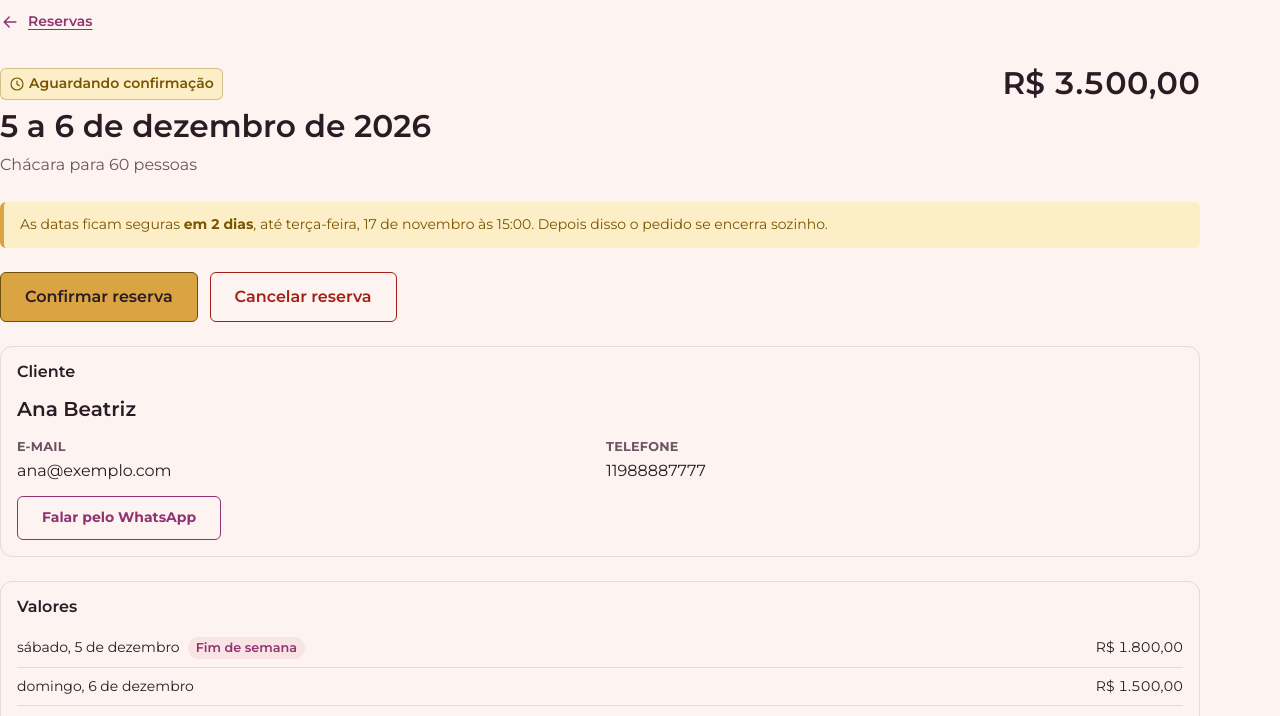
Test: BookingDetailPage, painel › avisa a mudança e mostra o novo estado
Click the button "Confirmar reserva" at (99, 297), box [0,272,198,322]
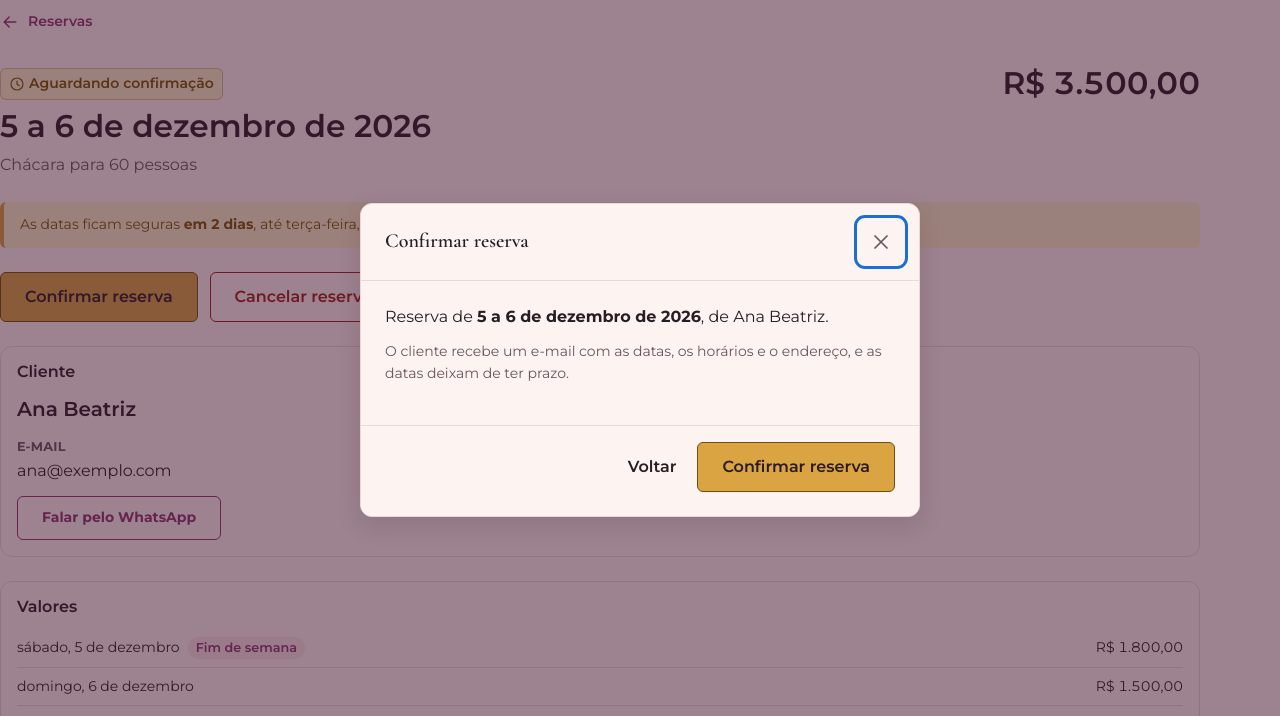
Click the button "Confirmar reserva" at (796, 467), box [697,442,895,492]
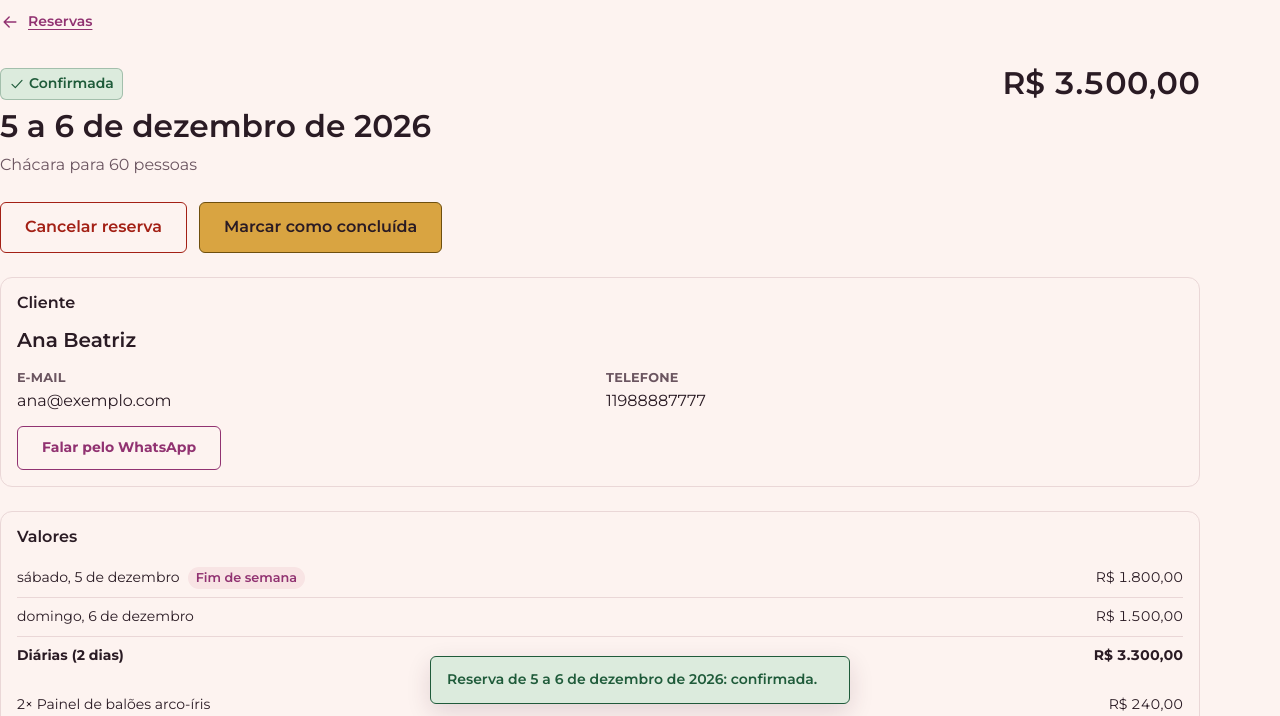
Now the message shows "confirmada", box [447,670,817,688]
Now the text "Confirmada" is shown, box [0,68,123,100]
